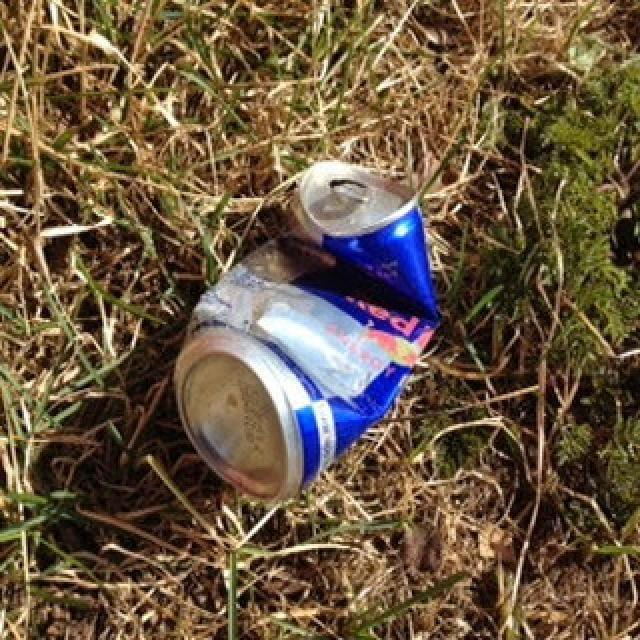recyclable: (173, 170, 436, 508)
